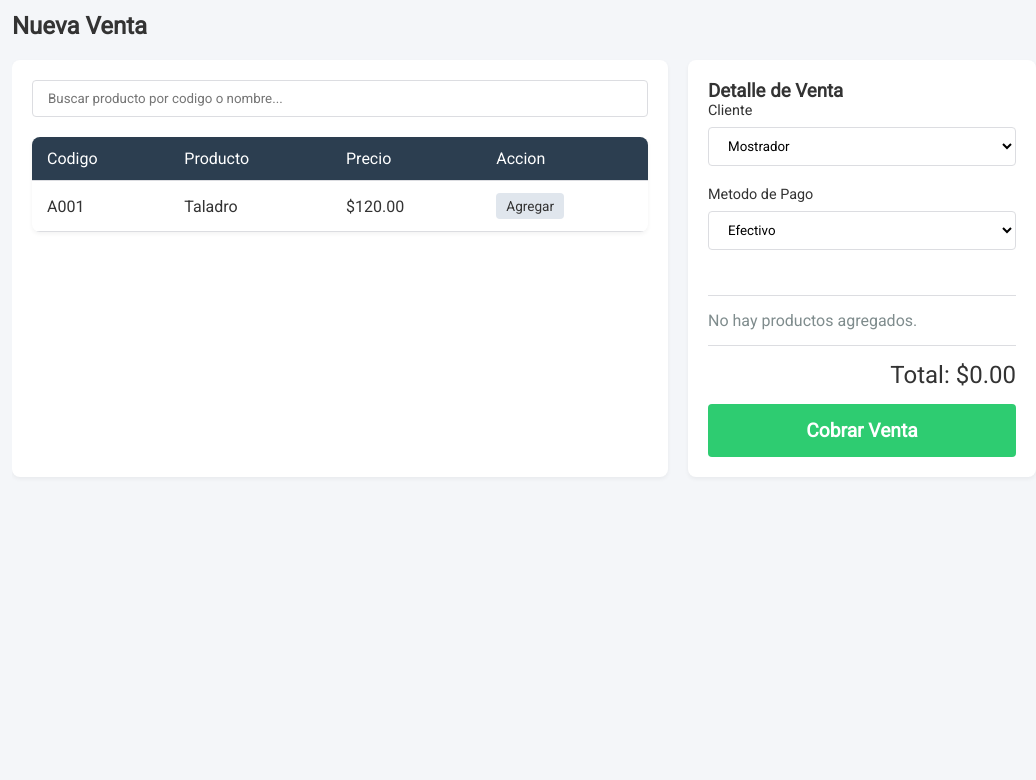
Test case: SalesView › shows validation error when seller is missing
Step 1. Click the button with class "btn-small" → (530, 206), box [496,193,564,219]
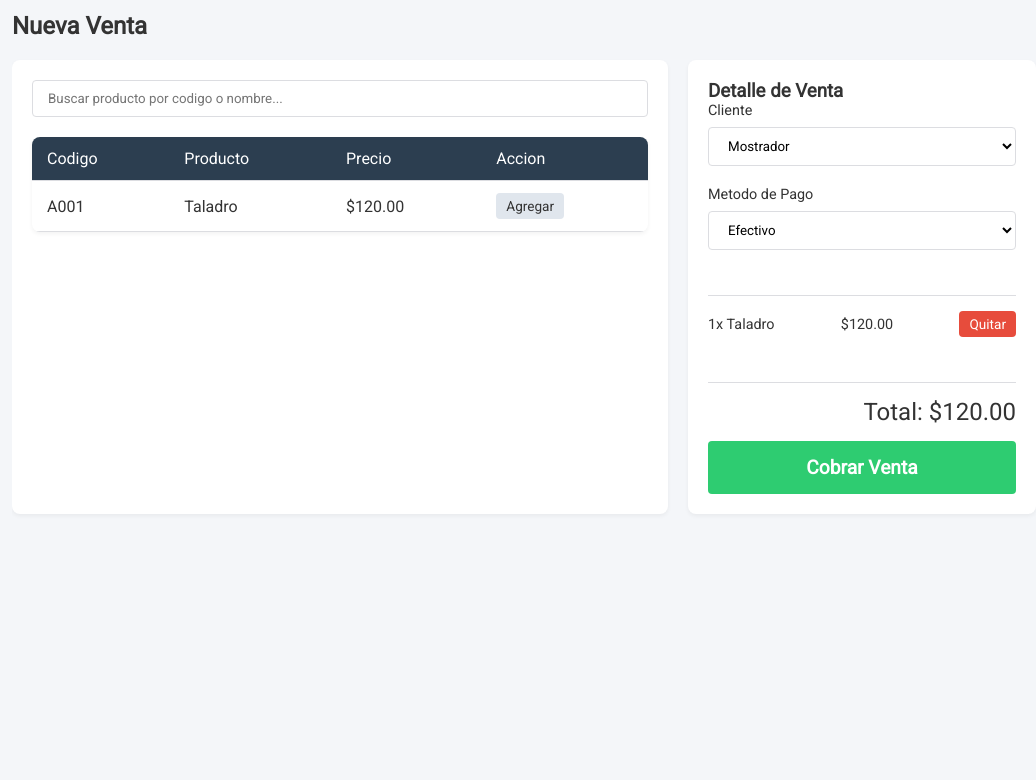
Step 2. Click the button with class "btn-sell" → (862, 468), box [708,441,1016,494]
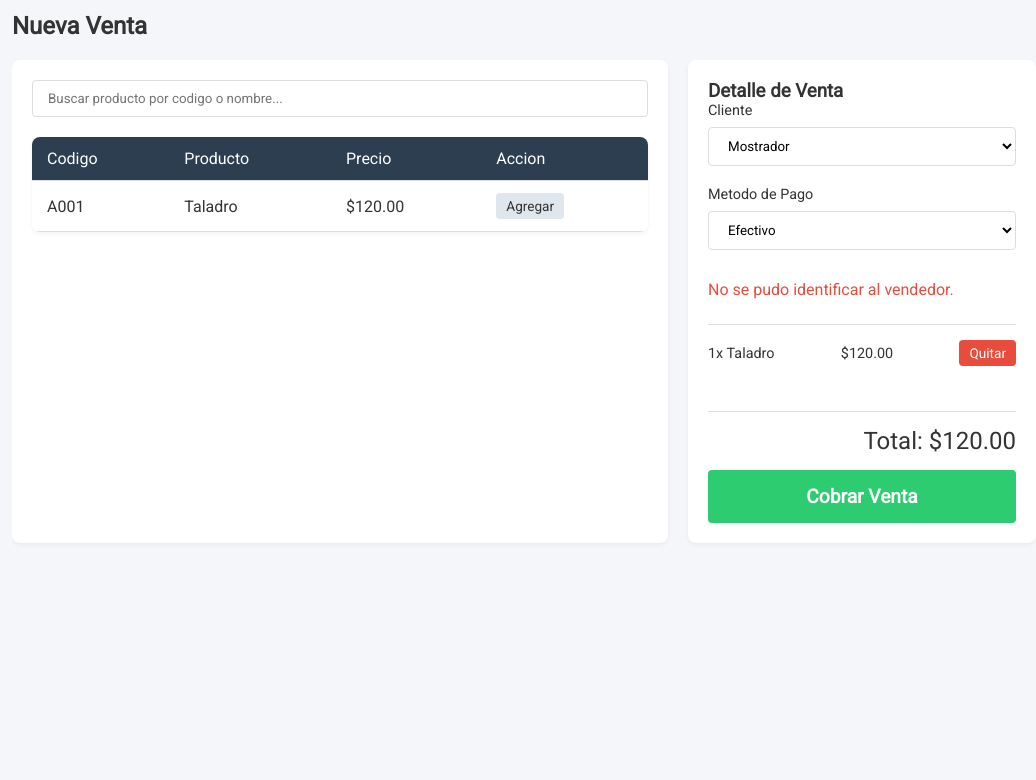
Expected: the text "No se pudo identificar al vendedor" is shown, [708,280,954,299]
